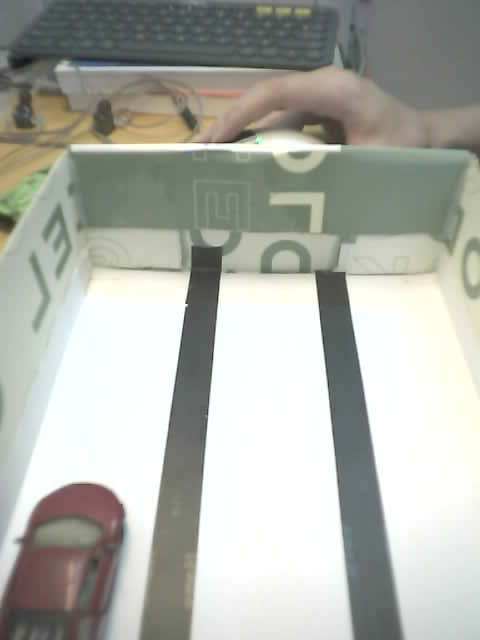vehicle: (15, 482, 129, 630)
